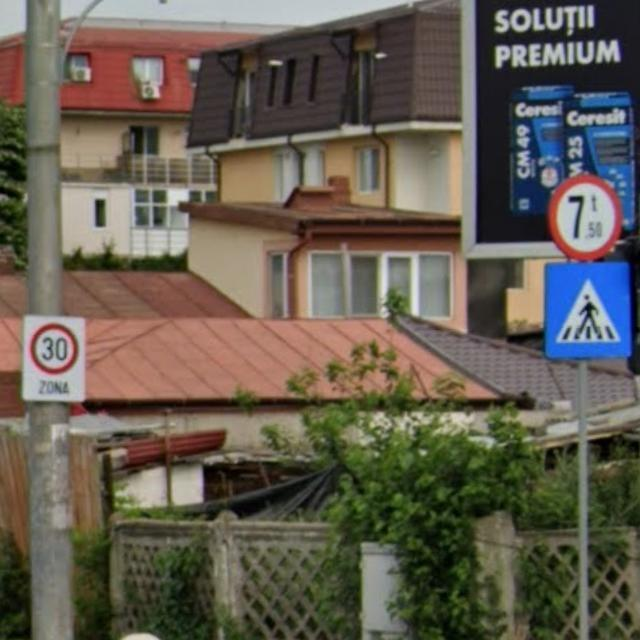forb_speed_over_30: (26, 322, 85, 380)
info_crosswalk: (540, 261, 636, 358)
